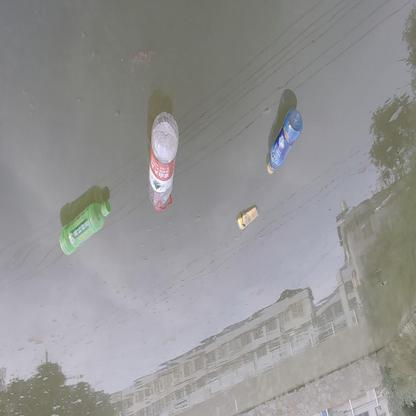plastic bottle: (58, 201, 110, 255), (149, 112, 177, 212), (267, 109, 302, 174)
